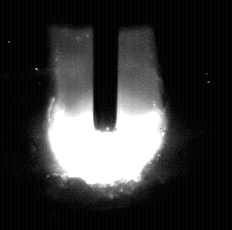arame: (94, 0, 118, 133)
poca: (48, 0, 166, 230)
